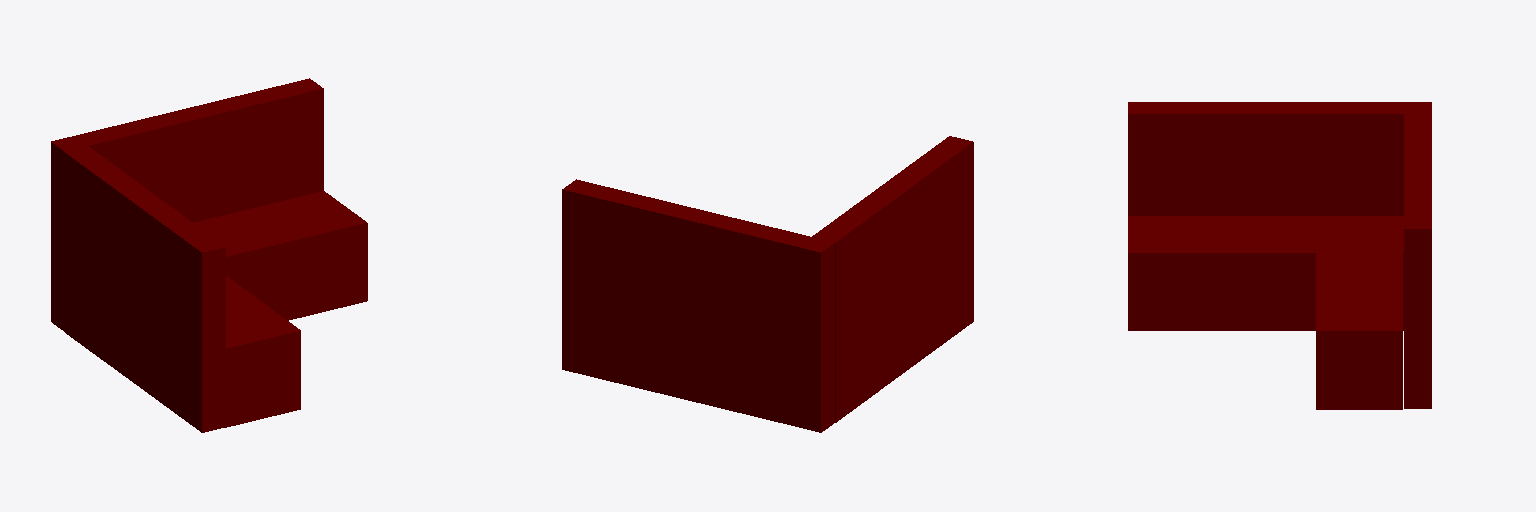
Rendered from bank_hoek.obj.
3 renders of one model, left to right at view 1: azimuth 30°, elevation 25°; view 2: azimuth 150°, elevation 25°; view 3: azimuth 270°, elevation 25°, orthographic.
Parts seen in each view (by area): view 1: Cube.010; view 2: Cube.010; view 3: Cube.010.
Boxes of the visible parts, <box> form: Cube.010: <box>51,78,367,432</box>; Cube.010: <box>562,136,973,432</box>; Cube.010: <box>1128,102,1431,409</box>.
Bounding box in the file's own units: 3.03 × 2.02 × 3.07.